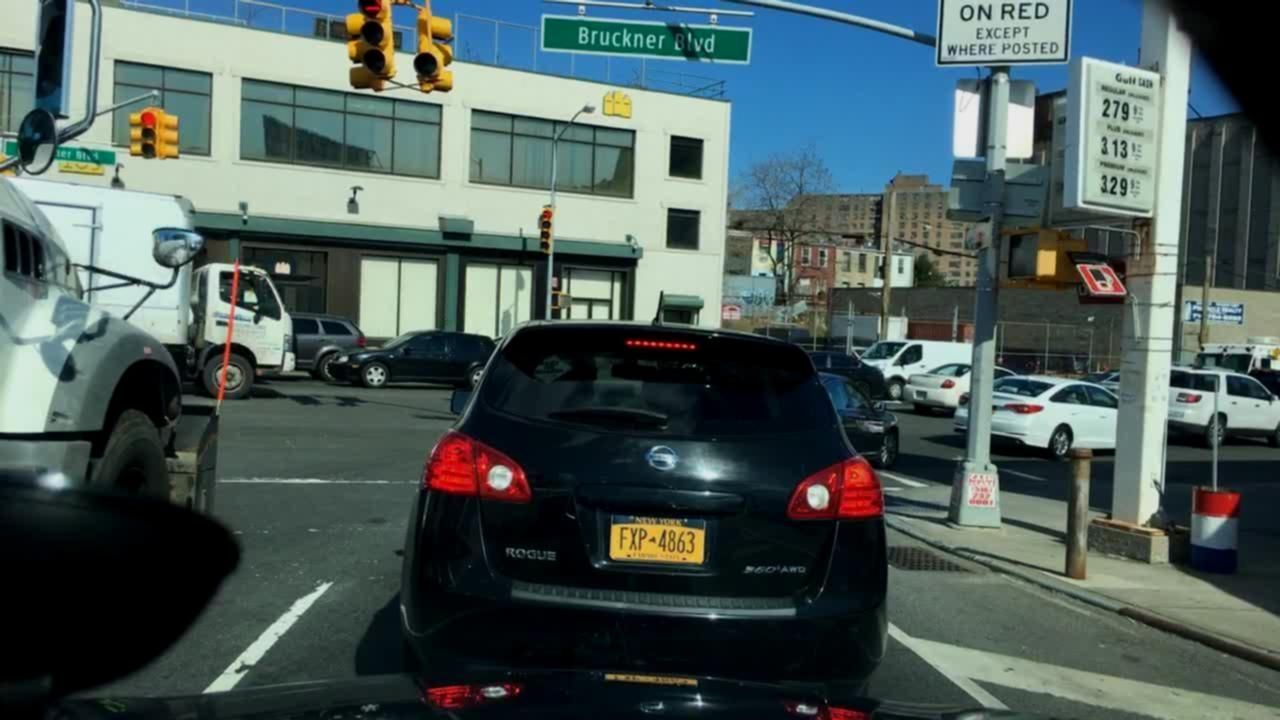Nissan: (633, 437, 684, 482)
